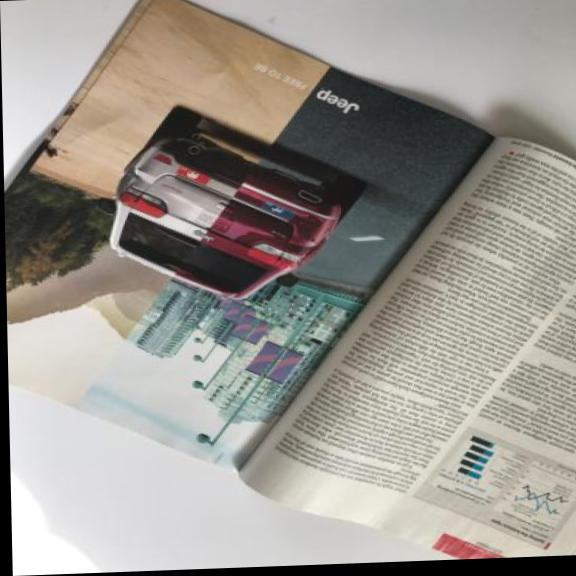Kertas: (0, 0, 462, 487), (232, 133, 576, 566)
